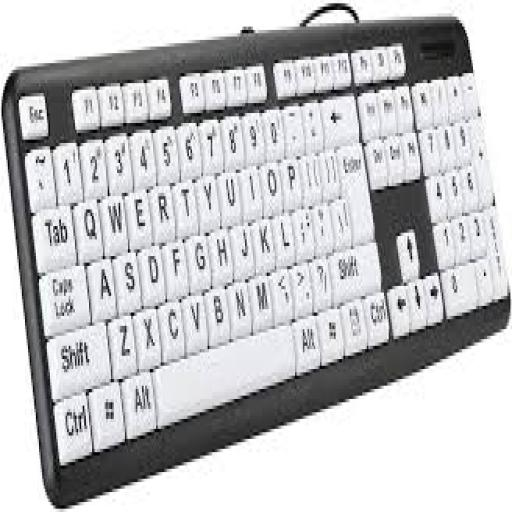keyboard: (2, 17, 510, 505)
